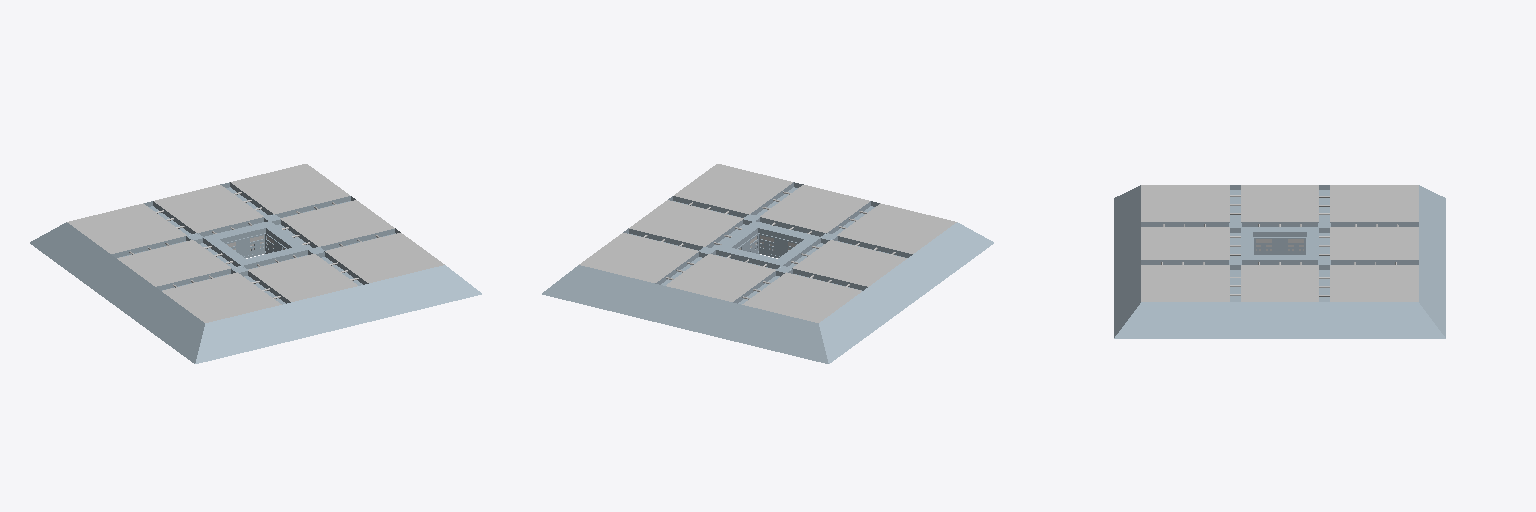
Rendered from Wall.obj.
3 views of the same model, side by side, from view 1: azimuth 30°, elevation 25°; view 2: azimuth 150°, elevation 25°; view 3: azimuth 270°, elevation 25° (orthographic).
Visible parts, largest first — view 1: Wall_Low_Cube.001, Wall_Low_Panel2_Cube.007, Wall_Low_Panel1_Cube.006; view 2: Wall_Low_Cube.001, Wall_Low_Panel2_Cube.007, Wall_Low_Panel1_Cube.006; view 3: Wall_Low_Cube.001, Wall_Low_Panel2_Cube.007, Wall_Low_Panel1_Cube.006.
Boxes of the visible parts, box(x1,y1,x2,y2) form: Wall_Low_Cube.001: box(30, 182, 481, 363); Wall_Low_Panel2_Cube.007: box(67, 164, 444, 322); Wall_Low_Panel1_Cube.006: box(117, 185, 394, 301); Wall_Low_Cube.001: box(542, 182, 993, 363); Wall_Low_Panel2_Cube.007: box(579, 164, 956, 322); Wall_Low_Panel1_Cube.006: box(629, 185, 906, 301); Wall_Low_Cube.001: box(1114, 185, 1445, 338); Wall_Low_Panel2_Cube.007: box(1141, 185, 1418, 301); Wall_Low_Panel1_Cube.006: box(1141, 185, 1418, 301).
Bounding box in the file's own units: 2.4 × 0.2 × 2.4.